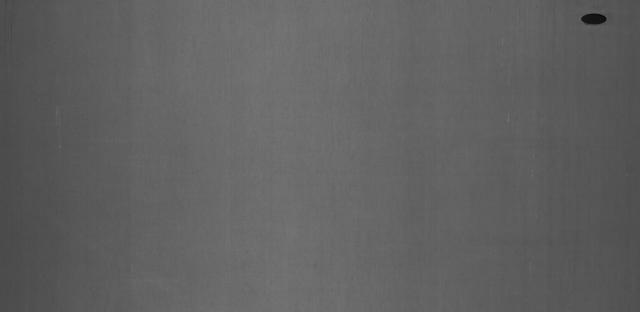punching_hole: (578, 8, 610, 28)
